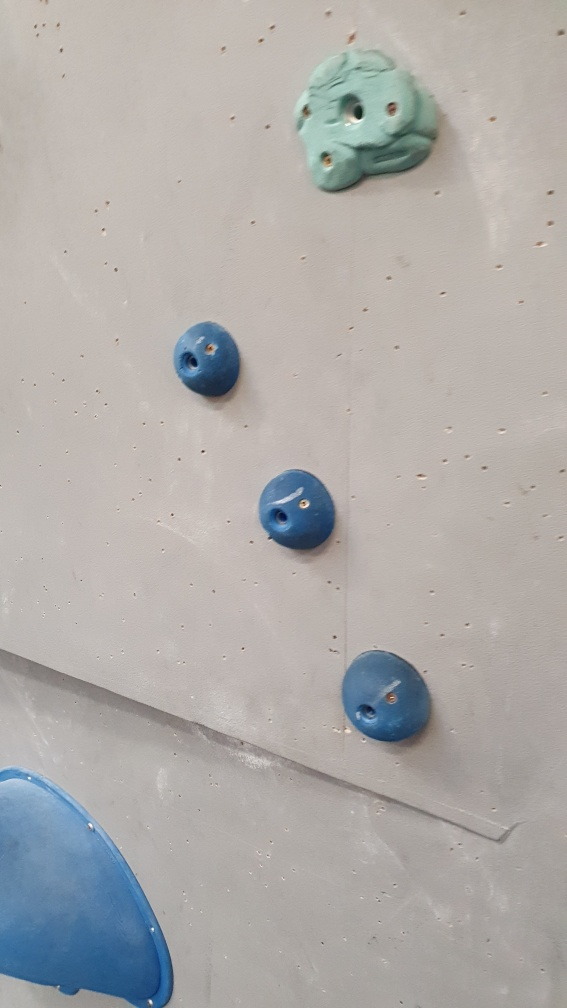Sloper: (336, 647, 435, 750), (244, 461, 345, 550), (163, 313, 248, 403)
